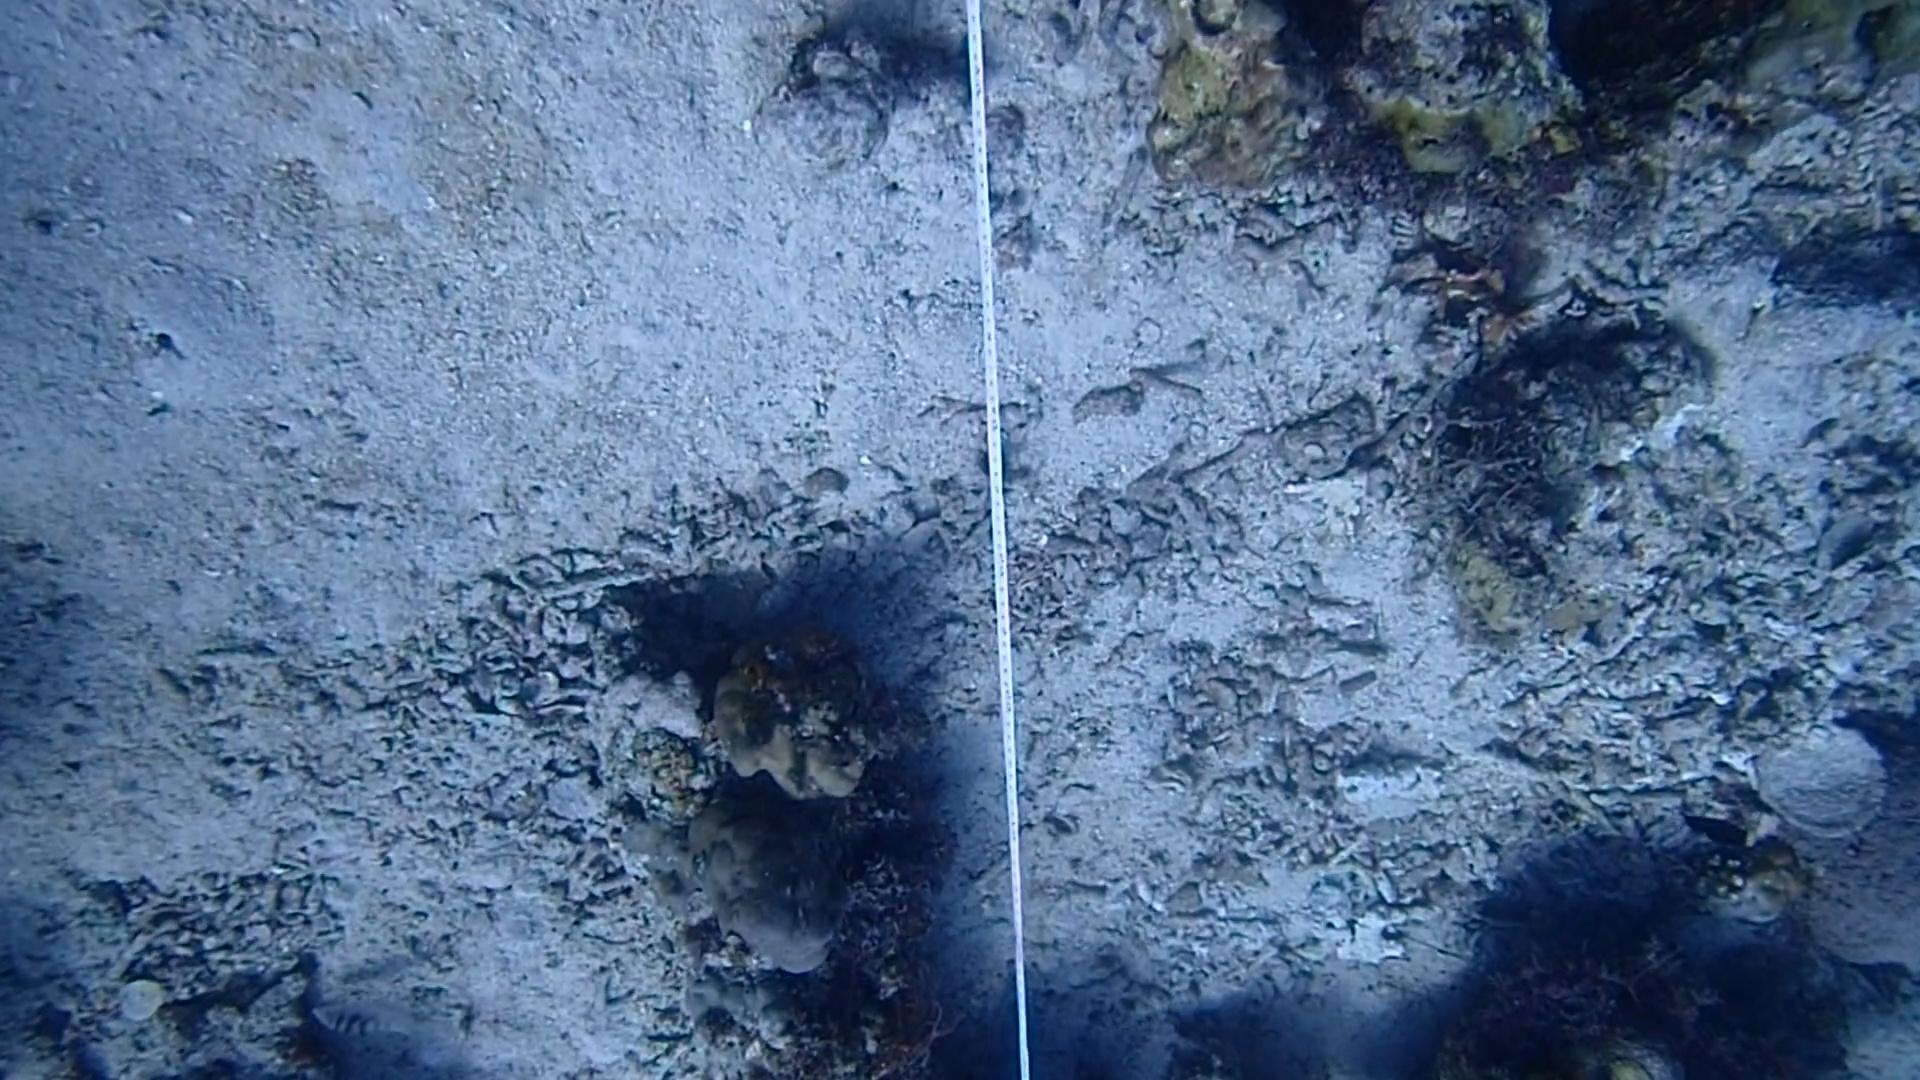Dark Fish: (1669, 800, 1754, 866)
